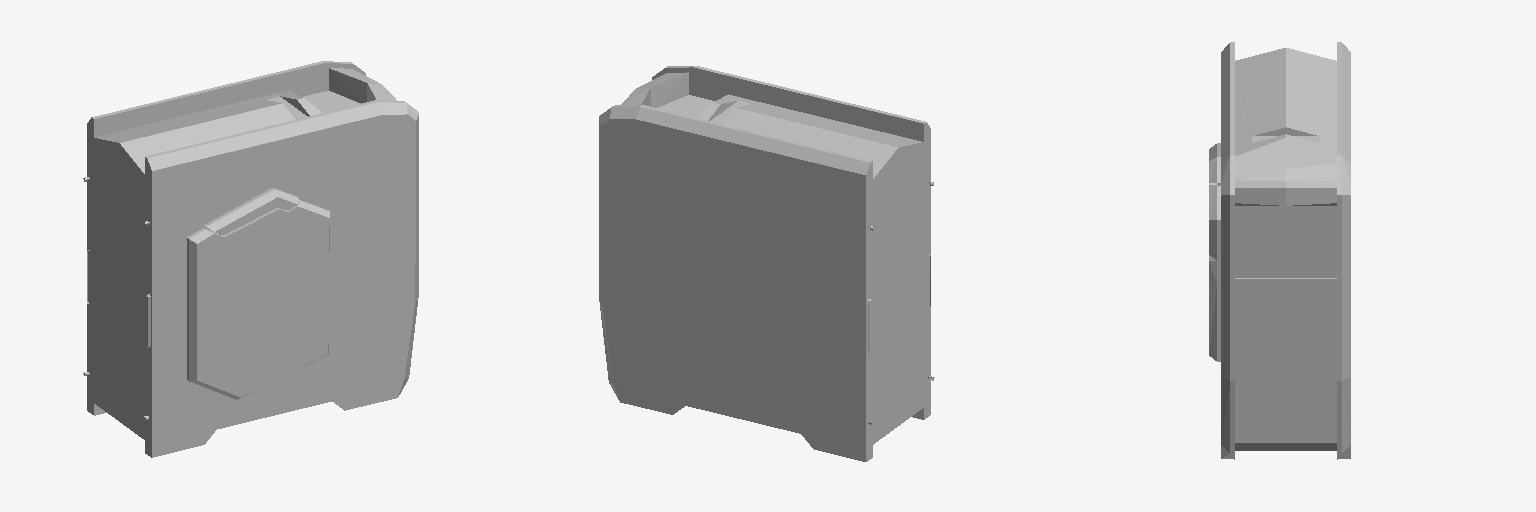
The model's file is cpu1.obj.
3 renders of one model, left to right at view 1: azimuth 30°, elevation 25°; view 2: azimuth 150°, elevation 25°; view 3: azimuth 270°, elevation 25°, orthographic.
Parts seen in each view (by area): view 1: computer; view 2: computer; view 3: computer.
Boxes of the visible parts, x1=… form: computer: x1=83, y1=61, x2=418, y2=457; computer: x1=599, y1=66, x2=934, y2=461; computer: x1=1209, y1=42, x2=1350, y2=459.
Size of the model in its own units: 4.88 by 5 by 2.16.